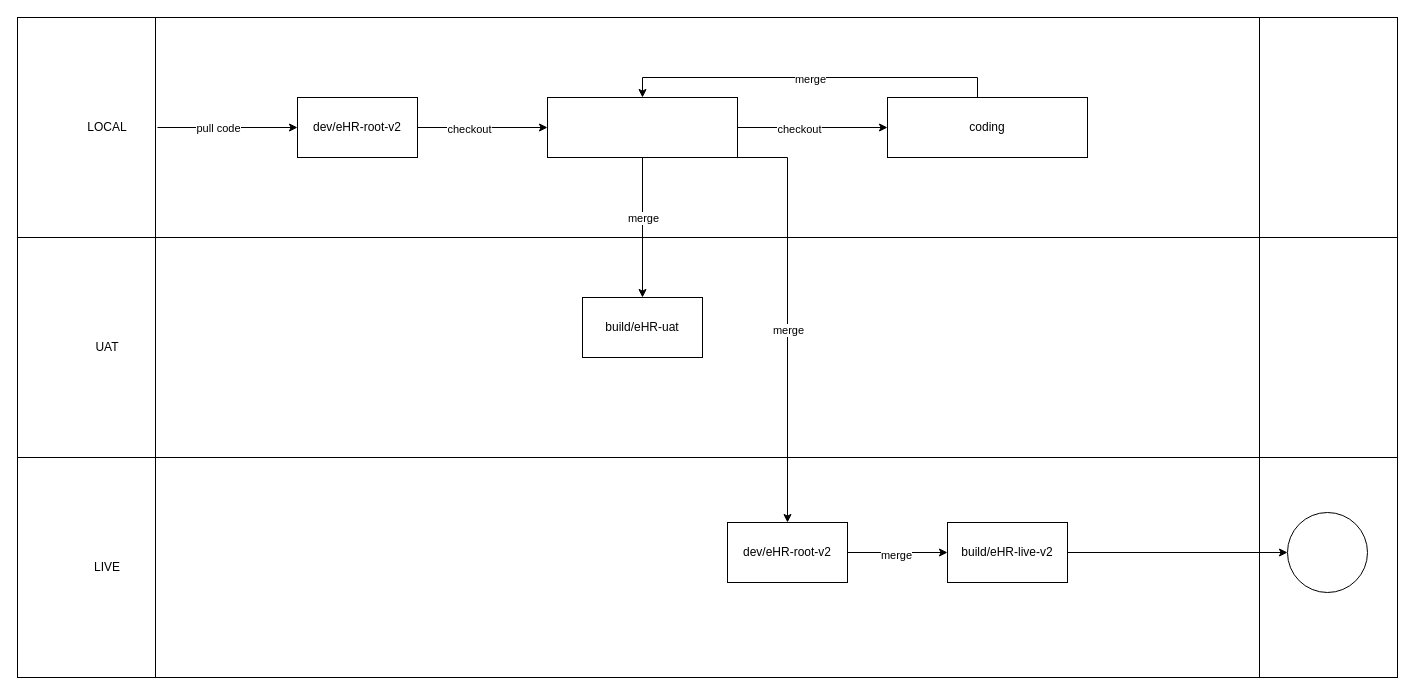
The diagram is 1415 pixels wide and 695 high, and some of its shapes have lost their labels. Each missing label, with the centre of its shape:
"build live" belongs at point 1327,552.
"dev/New-Future" belongs at point 642,127.
